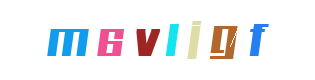6: (85, 0, 165, 80)
F: (181, 0, 261, 80)
G: (149, 0, 229, 80)
J: (119, 0, 199, 80)
L: (117, 0, 197, 80)
M: (72, 0, 152, 80)
V: (106, 0, 186, 80)
